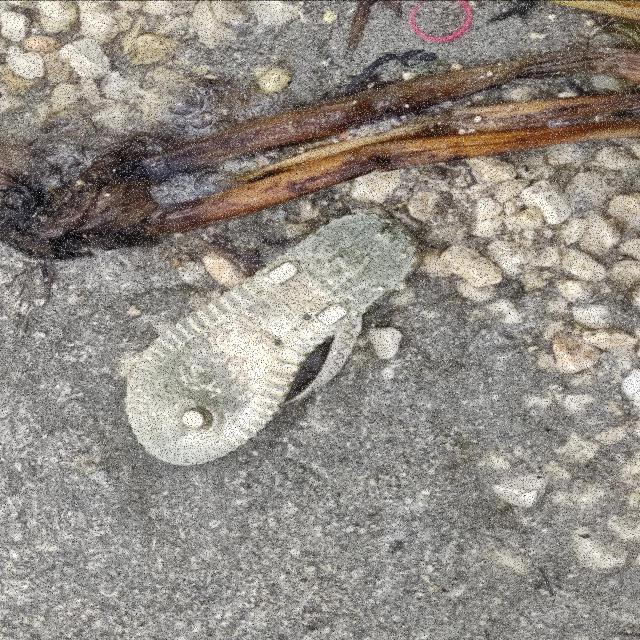rubber_waste: (125, 214, 422, 466)
